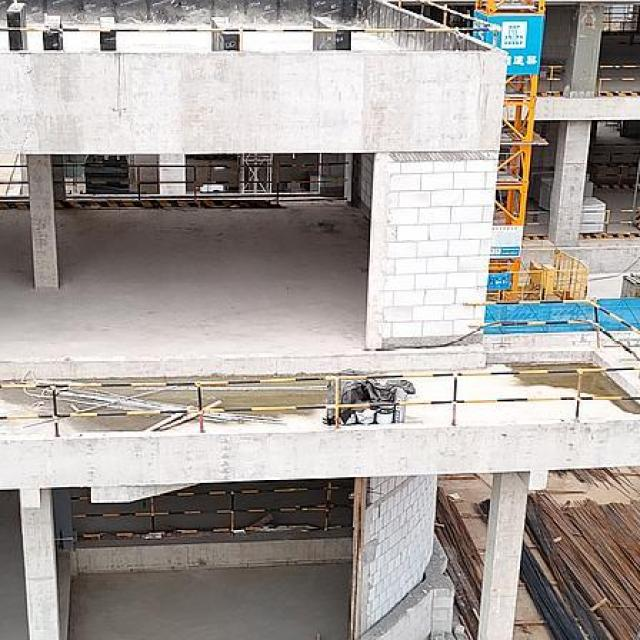edge_guardrail: (0, 366, 640, 437), (0, 0, 501, 51), (71, 481, 355, 539), (61, 161, 350, 205), (463, 298, 640, 362), (597, 65, 640, 96), (582, 209, 634, 234), (602, 12, 637, 32), (539, 65, 564, 92), (0, 165, 29, 185), (526, 211, 550, 226)
